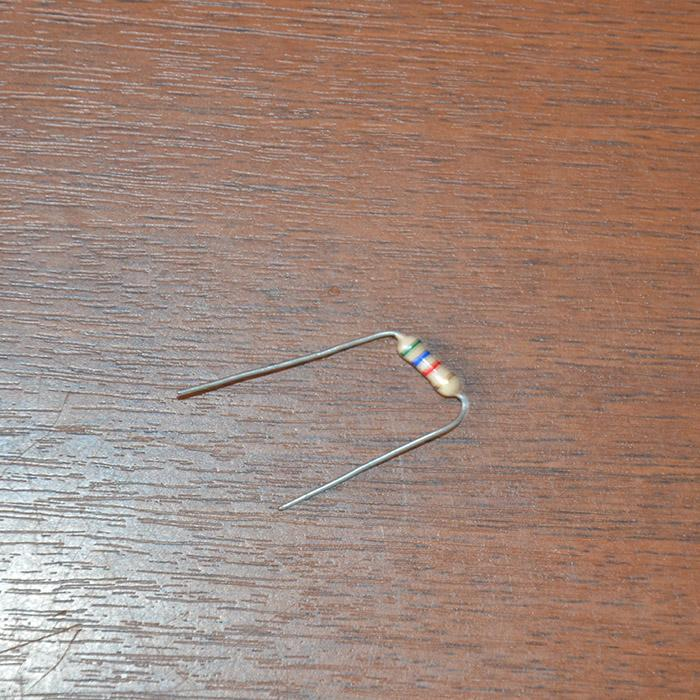resistor: (395, 334, 460, 397)
